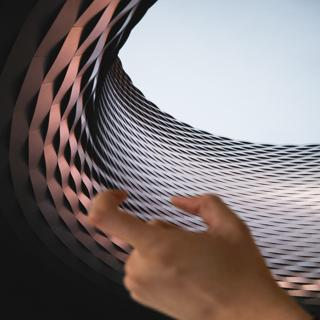HATE: (79, 185, 277, 320)
